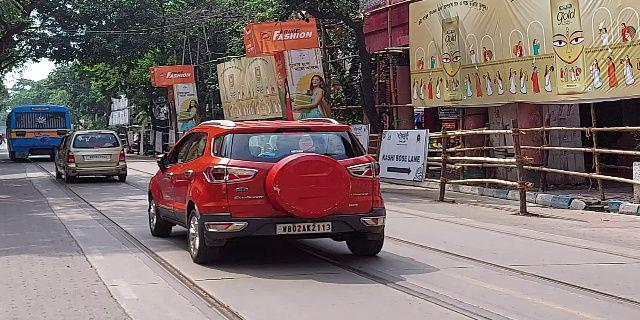Bus: (6, 106, 75, 165)
Car: (144, 115, 390, 267), (54, 128, 130, 188)
